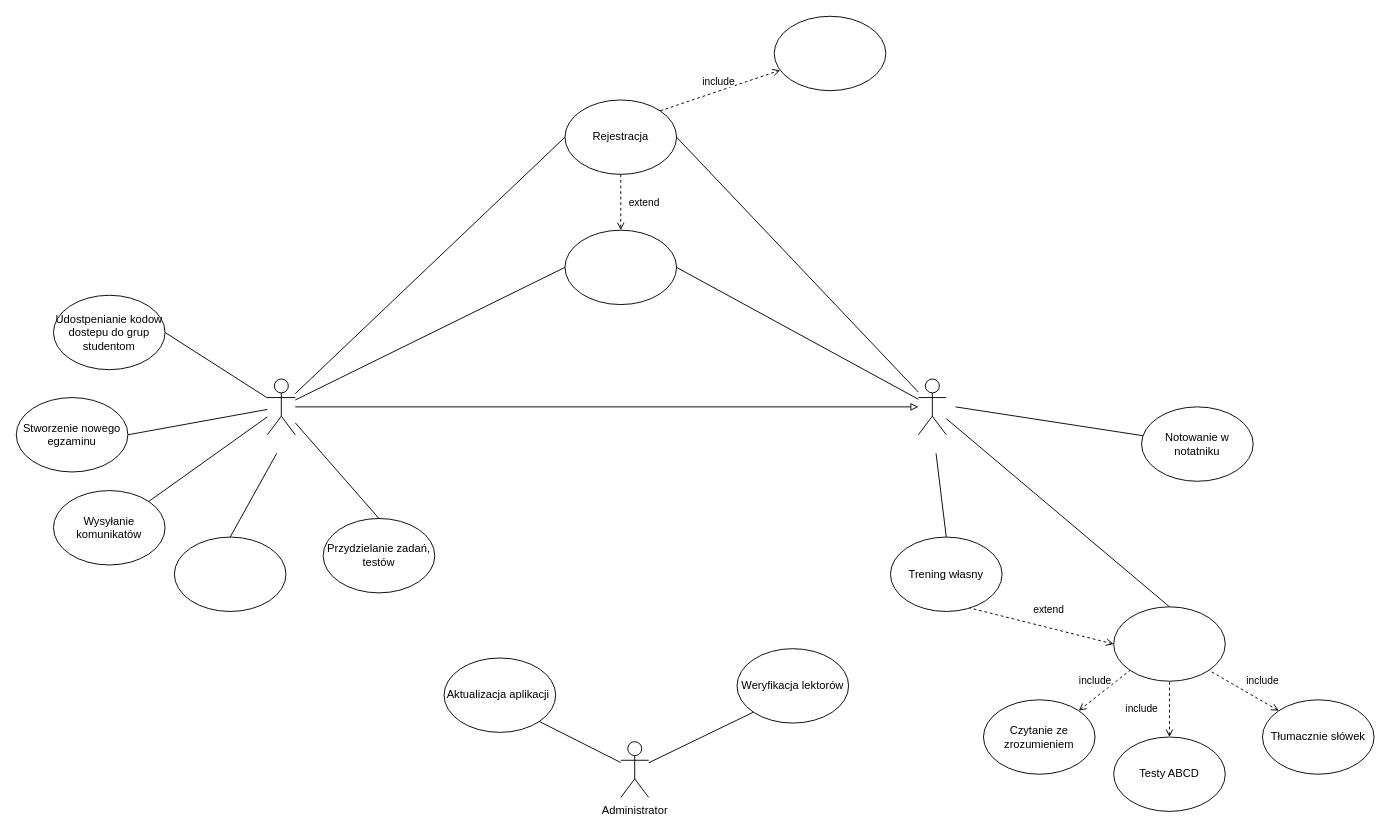
This 1390x833 diagram has some shape labels left out. Here are the shapes that lost their labels. From the top down, the centre of each, then its label:
At (829,53): "Weryfikacja konta".
At (620,267): "Logowanie".
At (280,406): "Lektor".
At (931,406): "Użytkownik".
At (229,573): "Nadzorowanie użytkowników w swoich grupach".
At (1169,643): "Rozwiązywanie testów, zadań, egzaminów".
